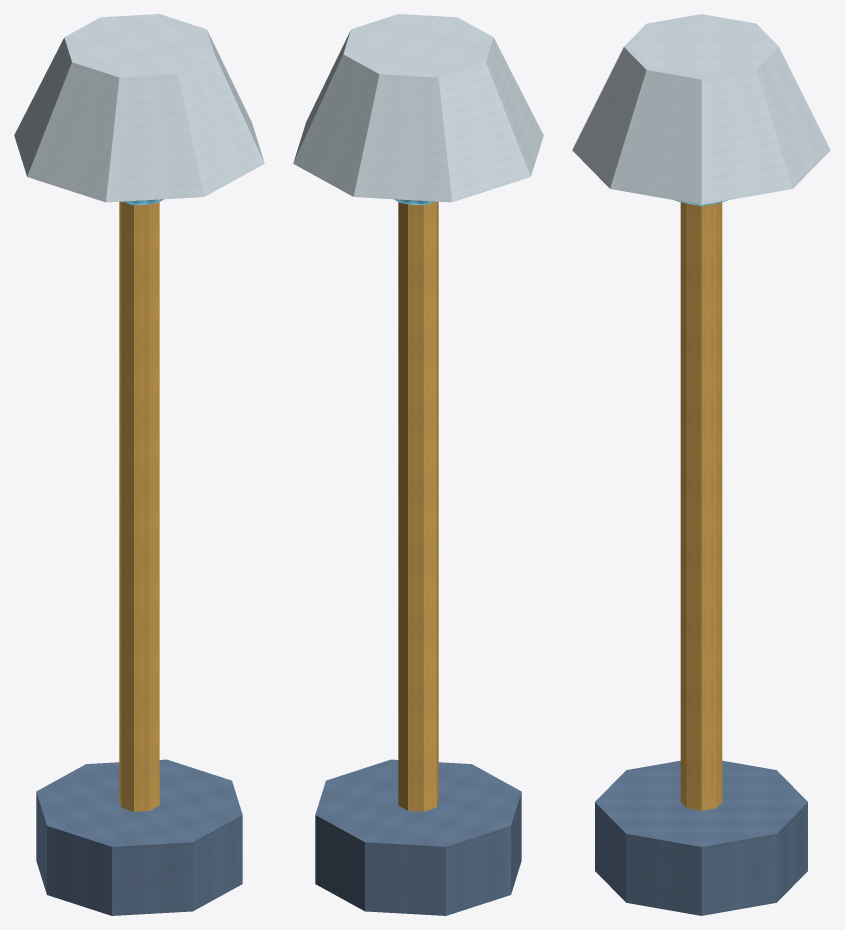
Rendered from atlas100-polar-util01.glb.
3 renders of one model, left to right at view 1: azimuth 30°, elevation 25°; view 2: azimuth 150°, elevation 25°; view 3: azimuth 270°, elevation 25°, orthographic.
Visible parts, largest first — view 1: atlas100-polar-util01:part-002, atlas100-polar-util01:part-000, atlas100-polar-util01:part-001; view 2: atlas100-polar-util01:part-002, atlas100-polar-util01:part-000, atlas100-polar-util01:part-001; view 3: atlas100-polar-util01:part-002, atlas100-polar-util01:part-000, atlas100-polar-util01:part-001.
Boxes of the visible parts, x1=… form: atlas100-polar-util01:part-002: x1=14, y1=14, x2=264, y2=202; atlas100-polar-util01:part-000: x1=36, y1=759, x2=242, y2=915; atlas100-polar-util01:part-001: x1=119, y1=201, x2=159, y2=811; atlas100-polar-util01:part-002: x1=293, y1=14, x2=543, y2=202; atlas100-polar-util01:part-000: x1=315, y1=759, x2=521, y2=915; atlas100-polar-util01:part-001: x1=398, y1=201, x2=438, y2=811; atlas100-polar-util01:part-002: x1=572, y1=14, x2=830, y2=204; atlas100-polar-util01:part-000: x1=595, y1=760, x2=807, y2=915; atlas100-polar-util01:part-001: x1=680, y1=202, x2=722, y2=810.
Bounding box in the file's own units: 0.7738 × 2.72 × 0.7738.
4 materials, 4 textured.
